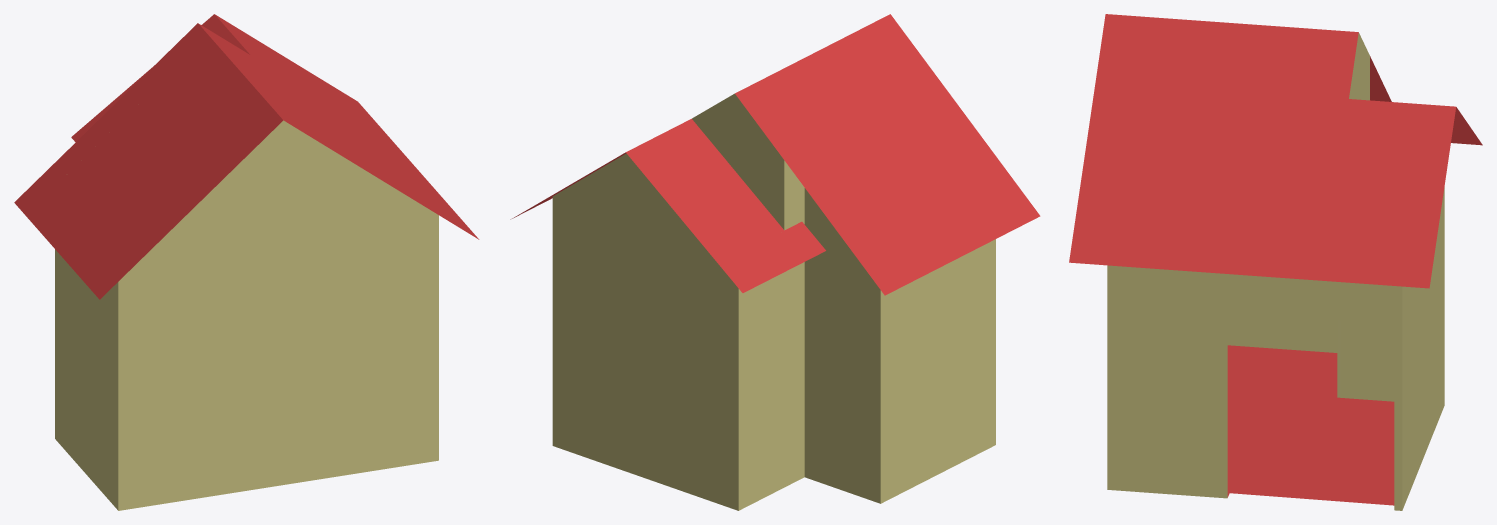
3 views of the same model, side by side, from view 1: azimuth 30°, elevation 25°; view 2: azimuth 150°, elevation 25°; view 3: azimuth 270°, elevation 25° (orthographic). The views are drawn at different scales.
Parts seen in each view (by area): view 1: group_5, group_3, group_4, group_7; view 2: group_5, group_3, group_9, group_7, group_4, group_8; view 3: group_3, group_5, group_6, group_4, group_9, group_10, group_7.
Part boxes in pixels (<box>): group_5: <box>55,120,438,510</box>; group_3: <box>15,23,478,299</box>; group_4: <box>14,14,479,290</box>; group_7: <box>71,14,249,142</box>; group_5: <box>552,93,995,503</box>; group_3: <box>510,14,1040,295</box>; group_9: <box>645,177,784,510</box>; group_7: <box>626,118,825,292</box>; group_4: <box>785,150,965,295</box>; group_8: <box>626,143,741,290</box>; group_3: <box>1069,14,1455,288</box>; group_5: <box>1107,32,1423,510</box>; group_6: <box>1227,345,1394,505</box>; group_4: <box>1072,14,1455,288</box>; group_9: <box>1370,187,1444,456</box>; group_10: <box>1349,400,1394,455</box>; group_7: <box>1451,107,1482,145</box>.
Bounding box in the file's own units: 14.43 × 12.47 × 13.16.
